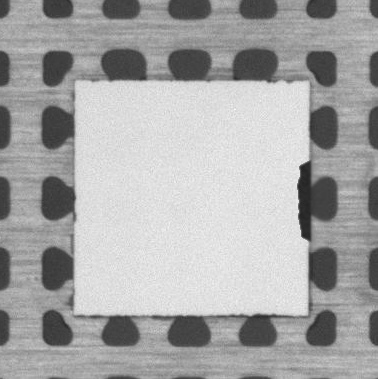DIE_BROKEN: (295, 155, 313, 248)
